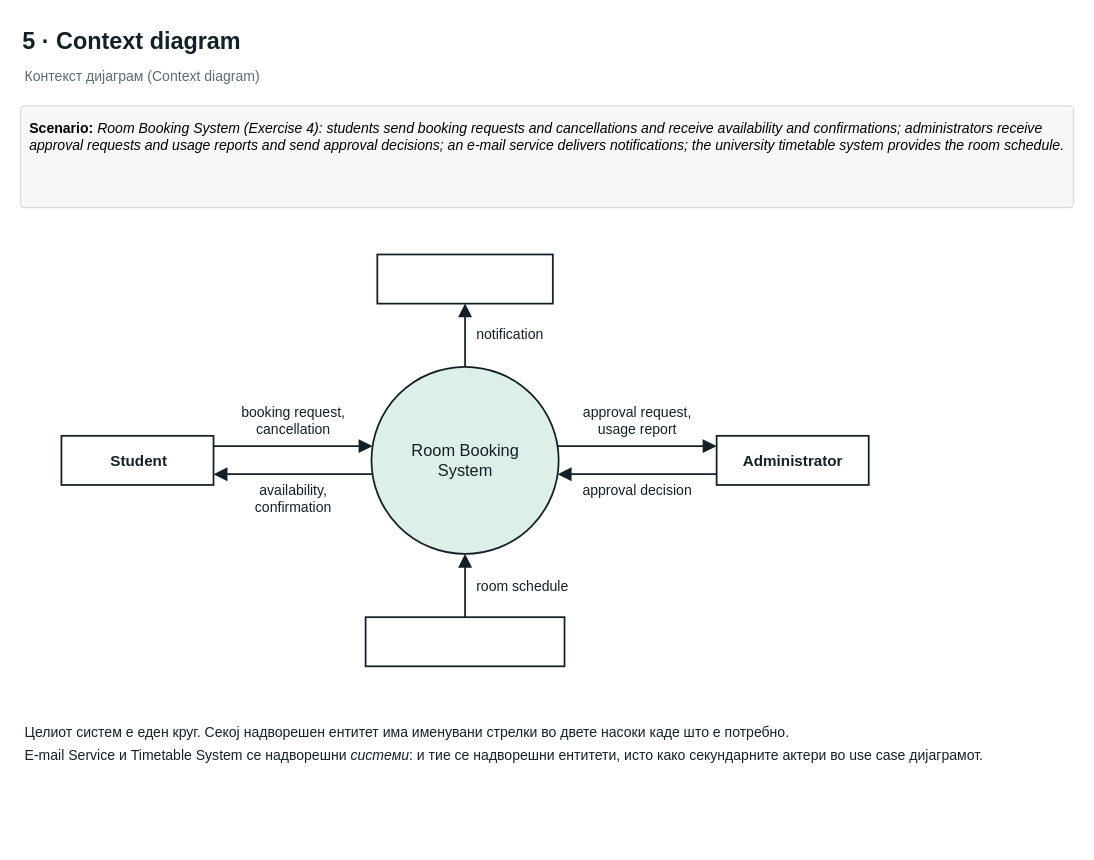
This 1094x860 diagram has some shape labels left out. The box of each missing label's shape, as (x1, y1, x2, y2) in pixels:
E-mail Service: (376, 253, 553, 304)
Timetable System: (364, 616, 565, 667)
